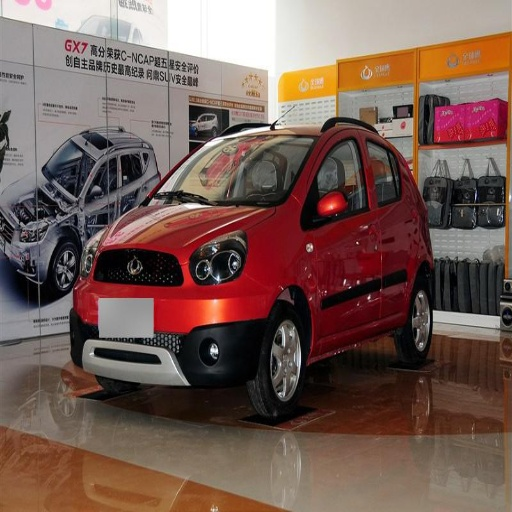front_bumper: (73, 251, 274, 387)
front_glass: (145, 136, 314, 205)
front_left_door: (305, 126, 381, 339)
